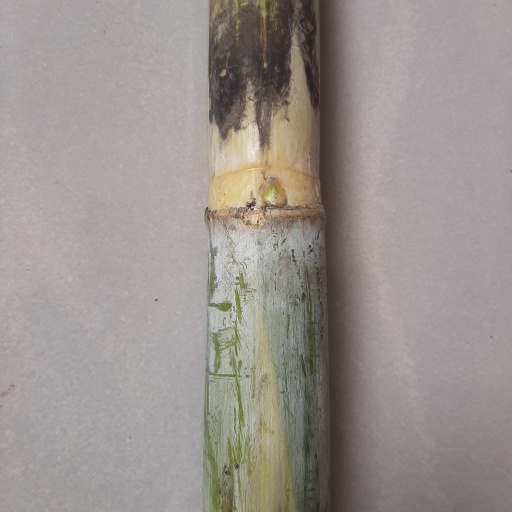Bud: (256, 174, 288, 208)
